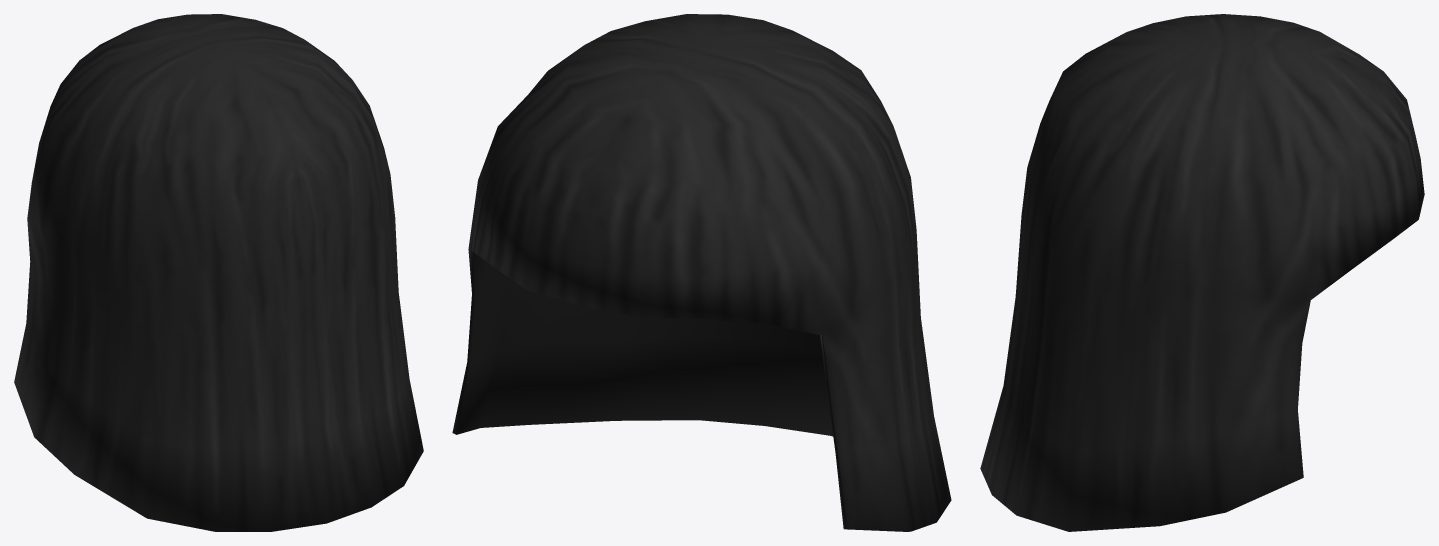
The picture shows the model from 3 angles, left to right: view 1: azimuth 30°, elevation 25°; view 2: azimuth 150°, elevation 25°; view 3: azimuth 270°, elevation 25°; orthographic projection. The views are drawn at different scales.
Visible parts, largest first — view 1: geometry_0; view 2: geometry_0; view 3: geometry_0.
Boxes of the visible parts, left/top/right/bottom form: geometry_0: left=14, top=14, right=423, bottom=531; geometry_0: left=452, top=14, right=951, bottom=531; geometry_0: left=980, top=14, right=1424, bottom=531.
Size of the model in its own units: 1.43 by 1.53 by 1.44.
Materials: 1 (1 with a texture image).
